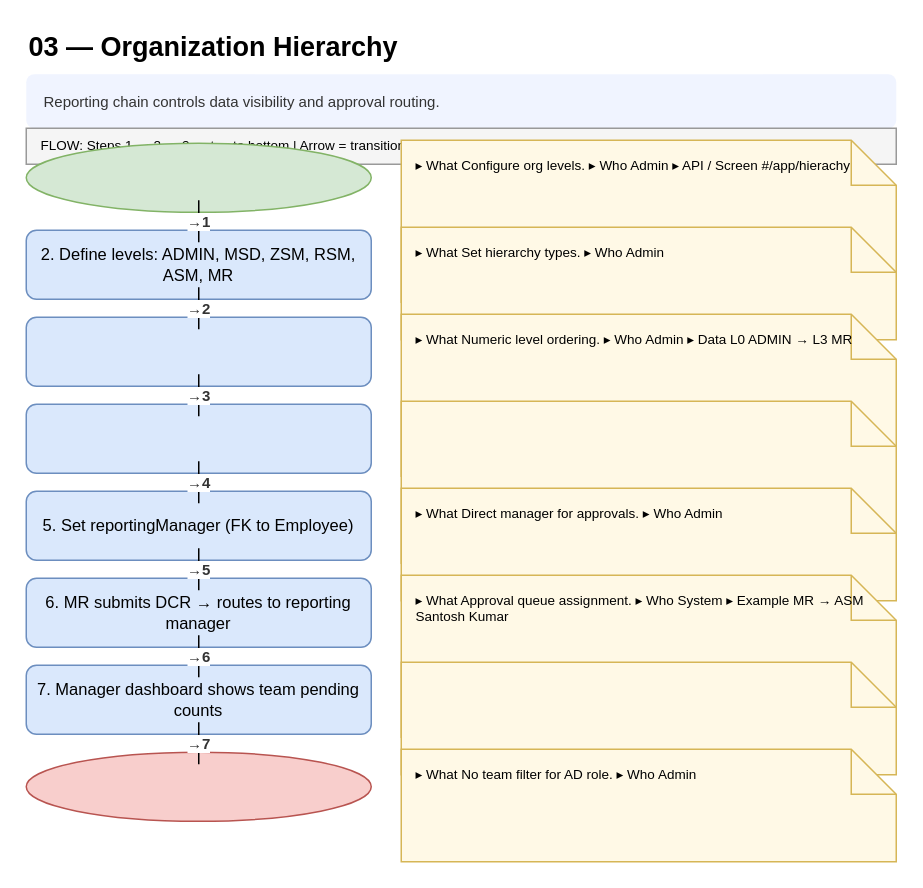
Some shapes in this 923 by 888 pixel diagram are drawn without their labels. Each missing label, with the box of its shape:
1. Admin opens Hierarchy Master: (25, 142, 371, 212)
3. Set hierachyLevel and hierachyType per level: (25, 316, 371, 386)
4. Assign hierachyId to each Employee: (25, 403, 371, 473)
8. Admin has company-wide visibility: (25, 751, 371, 821)
▸ What Link employee to level. ▸ Who Admin ▸ API / Screen users/employee-list: (400, 400, 896, 563)
▸ What Scoped pending badges. ▸ Who Manager: (400, 661, 896, 775)
